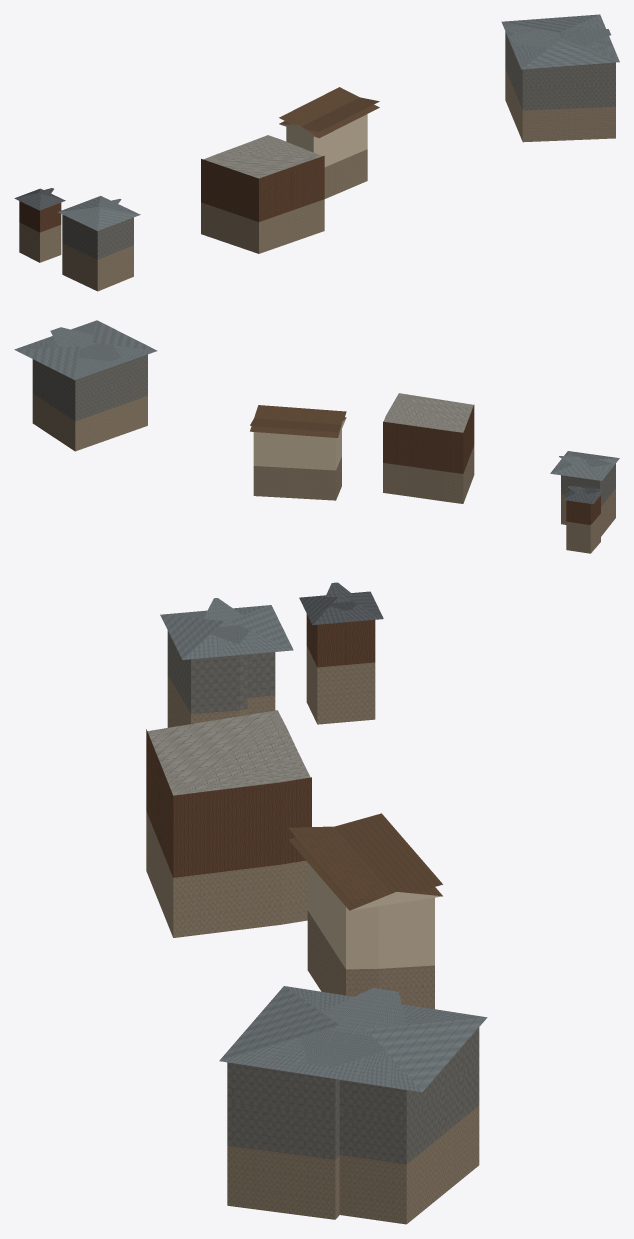
File: bld_c22_44_383.gltf
3 views of the same model, one above another, from view 1: azimuth 30°, elevation 25°; view 2: azimuth 150°, elevation 25°; view 3: azimuth 270°, elevation 25° (orthographic). The views are drawn at different scales.
Parts seen in each view (by area): view 1: bld_c22_44_383; view 2: bld_c22_44_383; view 3: bld_c22_44_383.
Boxes of the visible parts, x1,y1,x2,y2 form: bld_c22_44_383: (14, 14, 619, 291); bld_c22_44_383: (14, 320, 619, 553); bld_c22_44_383: (146, 582, 487, 1224).
Size of the model in its own units: 101 by 15.4 by 26.22.
10 materials, 10 textured.
